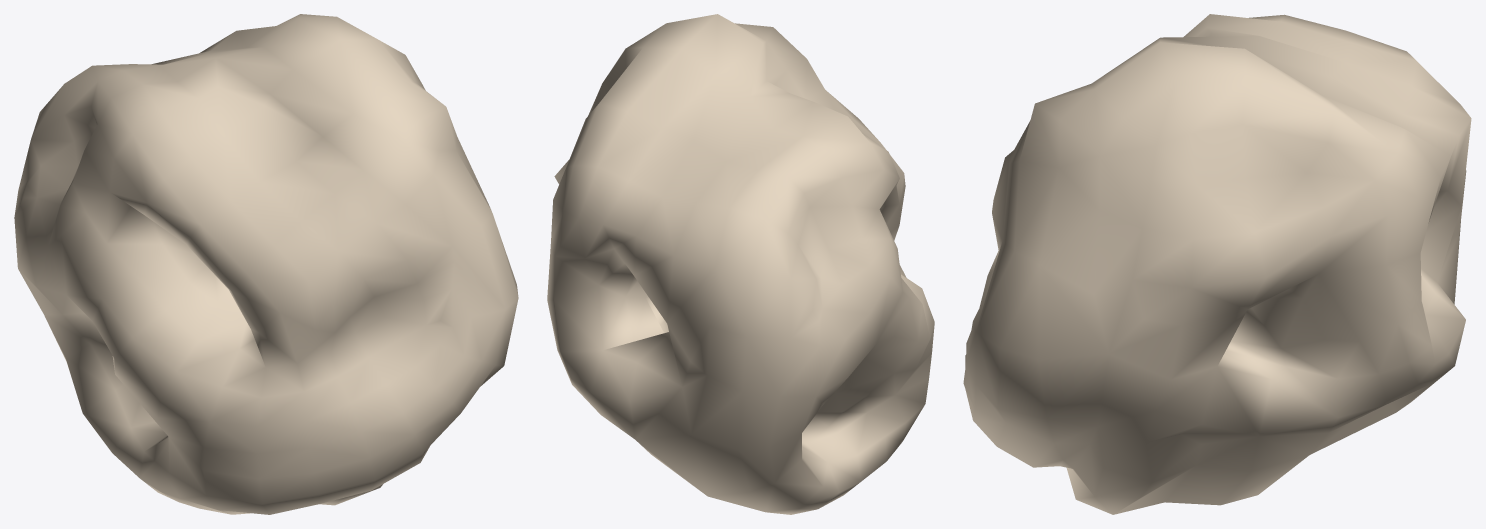
The model's file is SM_Asteroid.fbx.
3 views of the same model, side by side, from view 1: azimuth 30°, elevation 25°; view 2: azimuth 150°, elevation 25°; view 3: azimuth 270°, elevation 25° (orthographic). The views are drawn at different scales.
Parts seen in each view (by area): view 1: SM_Asteroid_01; view 2: SM_Asteroid_01; view 3: SM_Asteroid_01.
Part boxes in pixels (x1,y1,x2,y2): SM_Asteroid_01: (14,14,518,514); SM_Asteroid_01: (547,14,934,514); SM_Asteroid_01: (963,14,1471,514).
Size of the model in its own units: 84.88 by 103 by 97.49.
